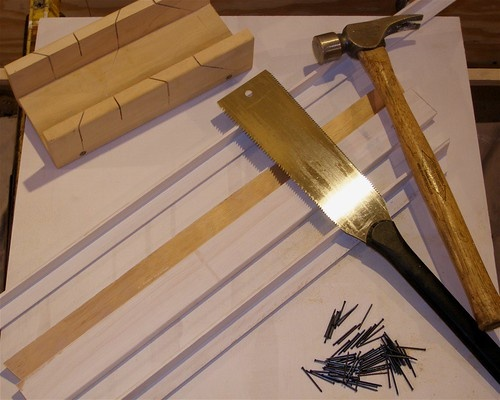hammer: (311, 14, 498, 321)
